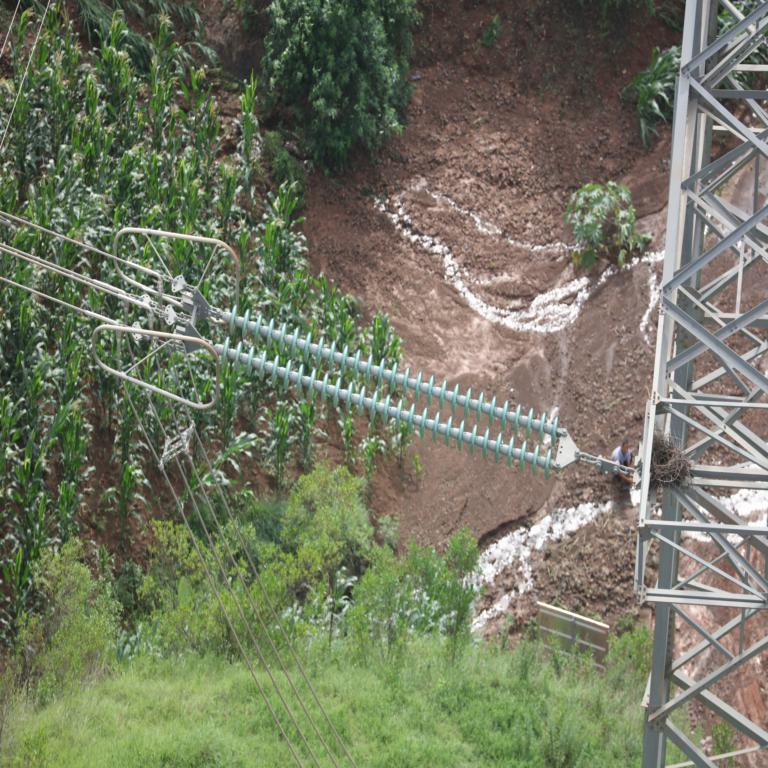nest: (642, 443, 687, 486)
